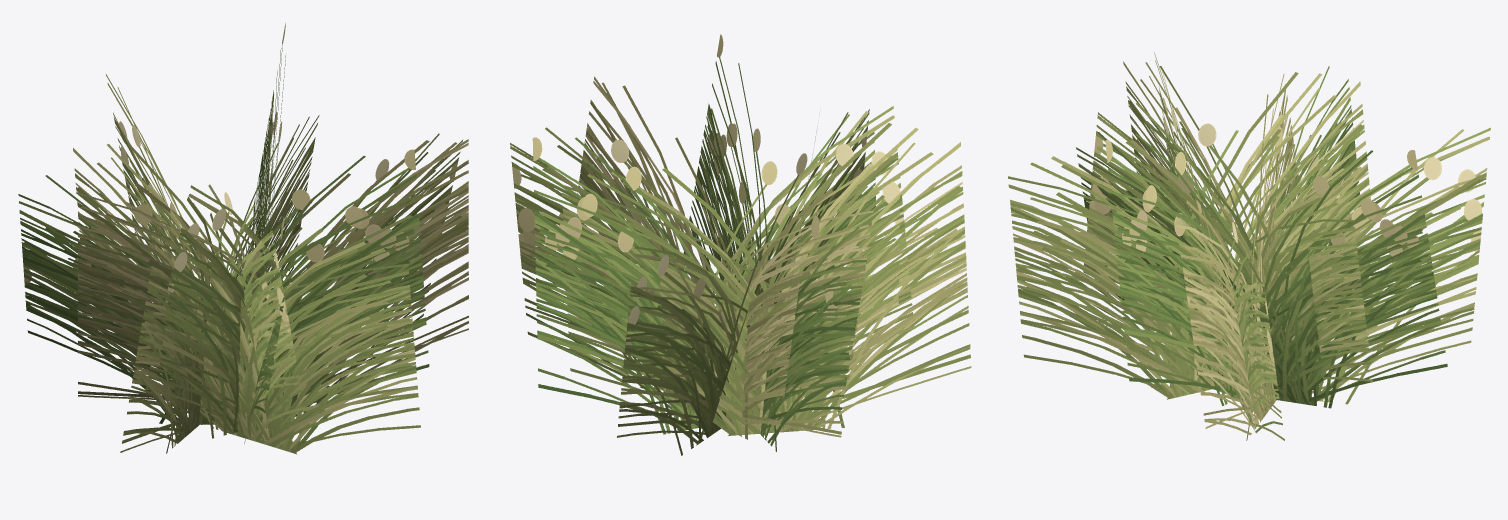
Rendered from grass_ornamental.glb.
The picture shows the model from 3 angles, left to right: view 1: azimuth 30°, elevation 25°; view 2: azimuth 150°, elevation 25°; view 3: azimuth 270°, elevation 25°; orthographic projection. The views are drawn at different scales.
Parts seen in each view (by area): view 1: grass_ornamental; view 2: grass_ornamental; view 3: grass_ornamental.
Boxes of the visible parts, box(x1,y1,x2,y2) form: grass_ornamental: box(18, 23, 468, 454); grass_ornamental: box(510, 34, 971, 455); grass_ornamental: box(1008, 52, 1490, 440).
Size of the model in its own units: 1.2 by 0.9657 by 1.25.
1 material, 1 textured.
